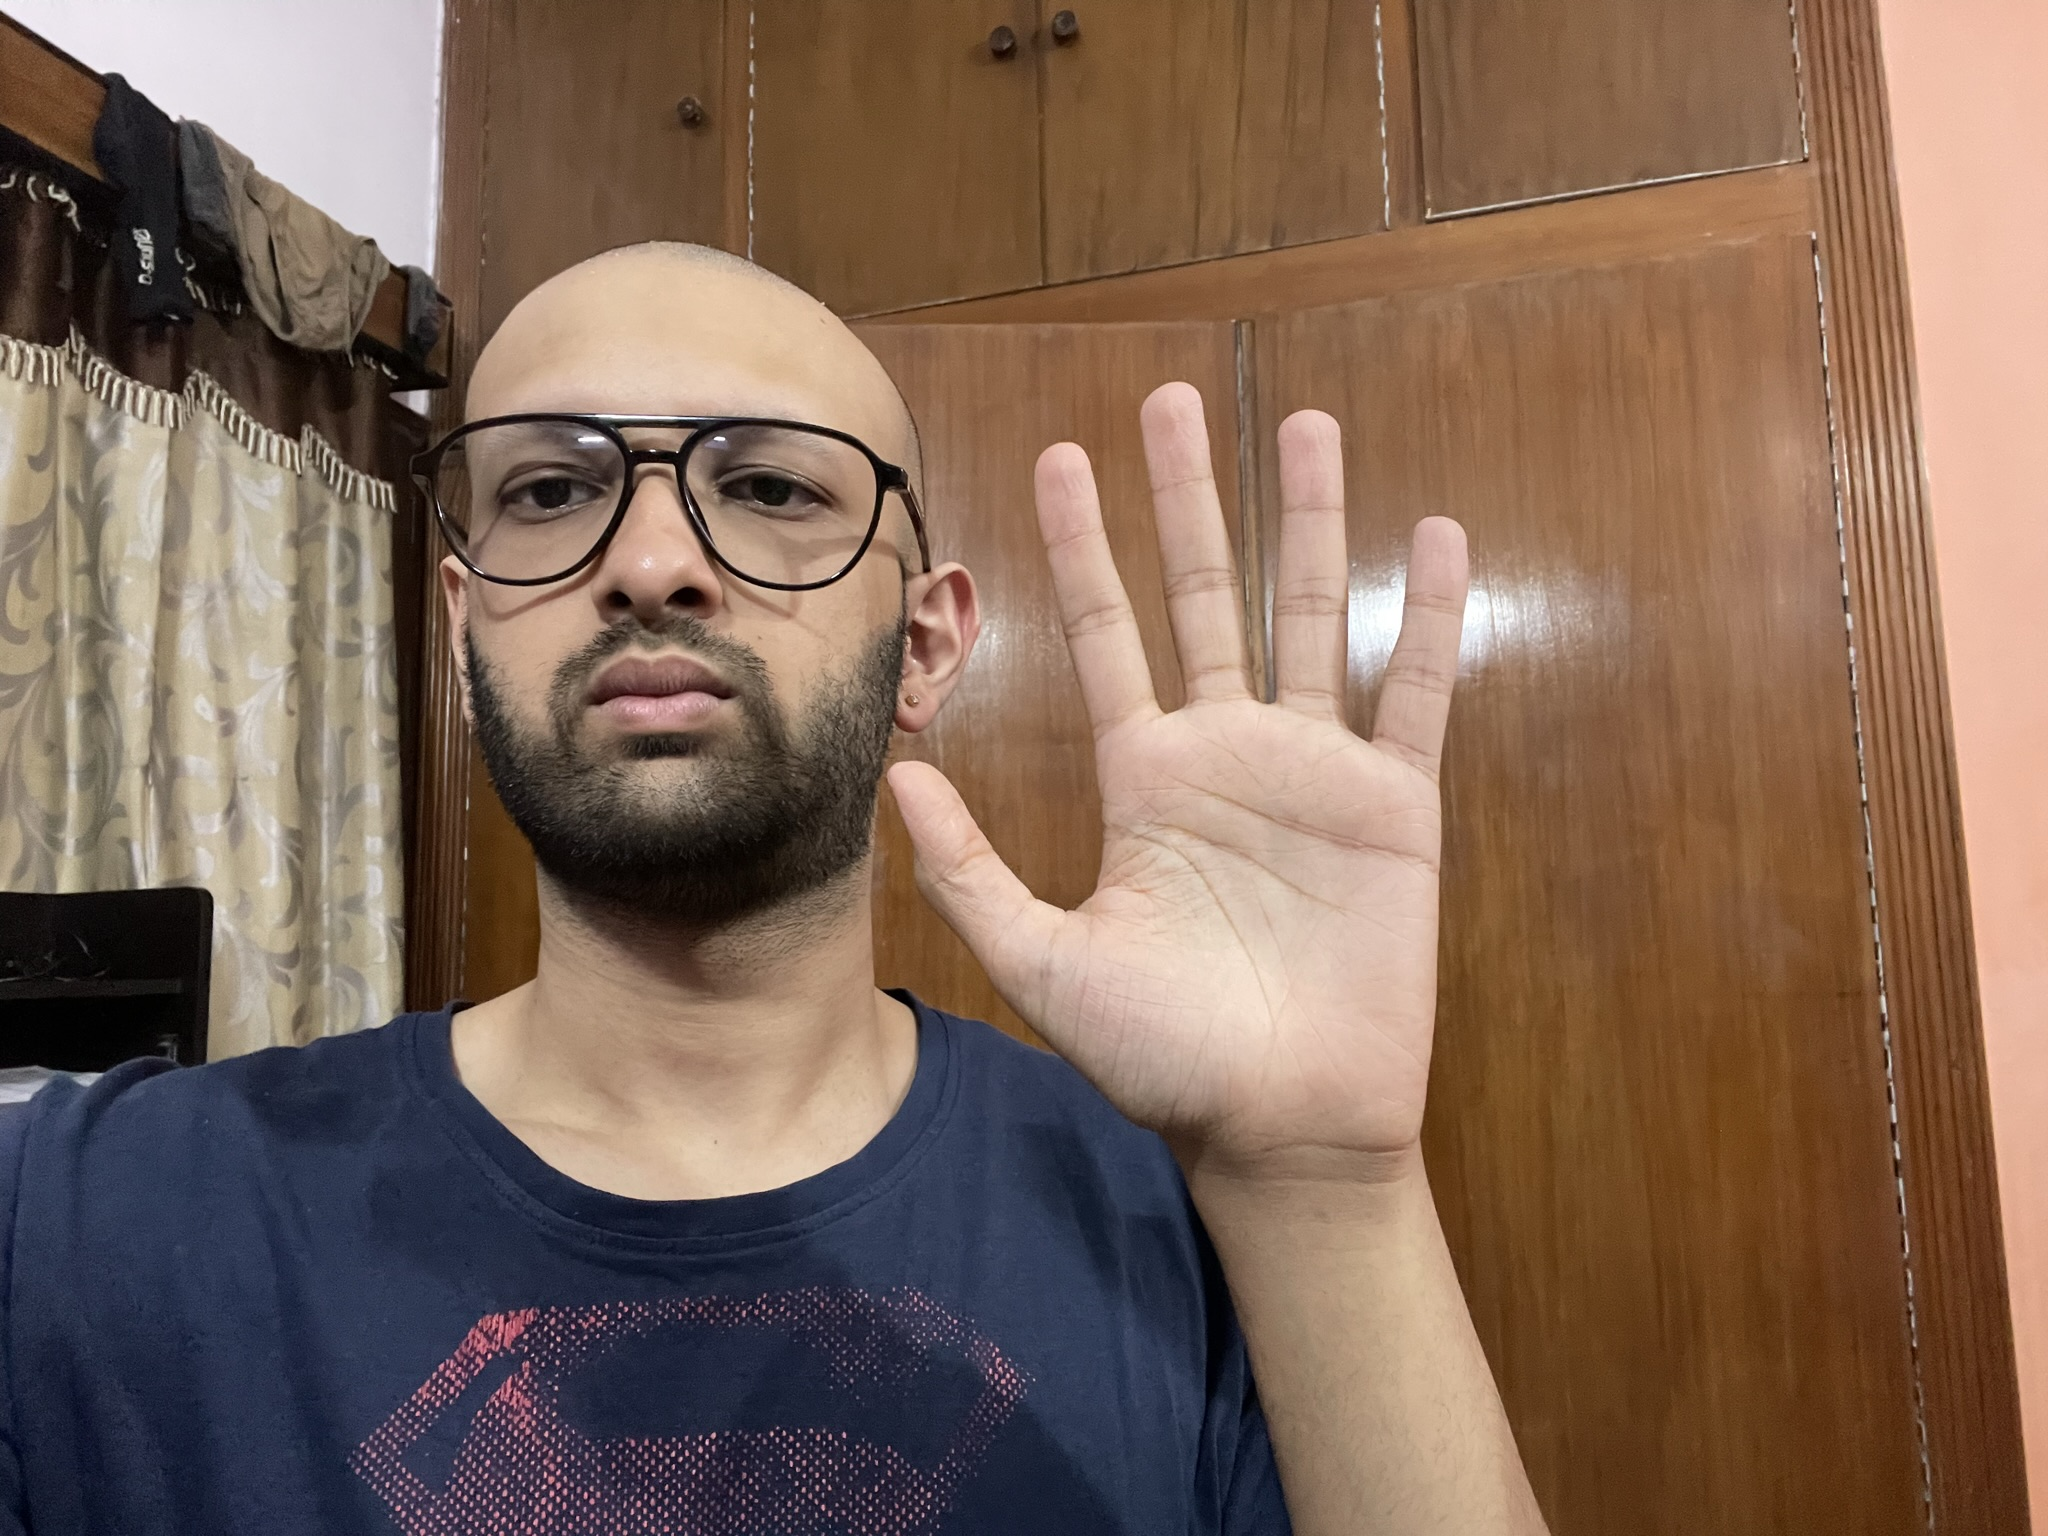Hello: (876, 369, 1485, 1200)
